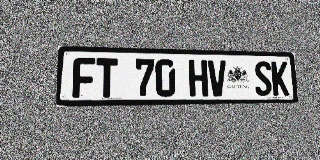0: (155, 59, 175, 97)
7: (134, 59, 155, 97)
F: (72, 58, 95, 98)
H: (189, 60, 208, 97)
K: (271, 61, 289, 96)
S: (254, 61, 272, 96)
T: (96, 58, 118, 98)
V: (208, 60, 227, 96)
